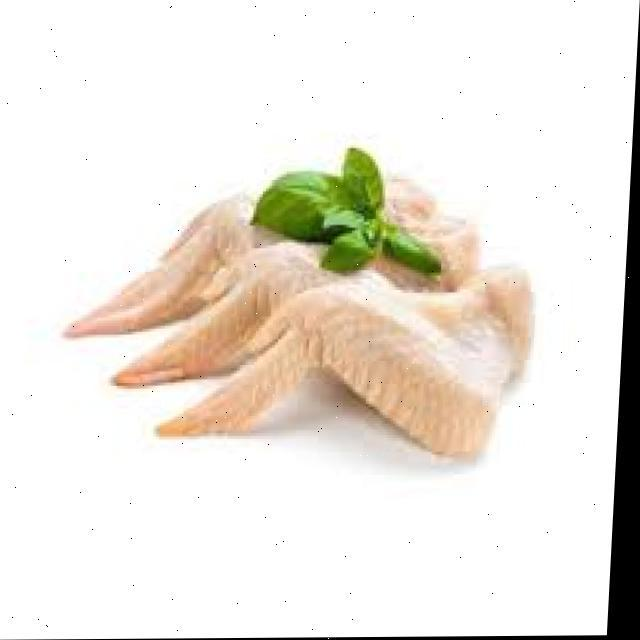wing: (199, 268, 558, 482), (60, 150, 462, 291), (136, 238, 498, 373)
